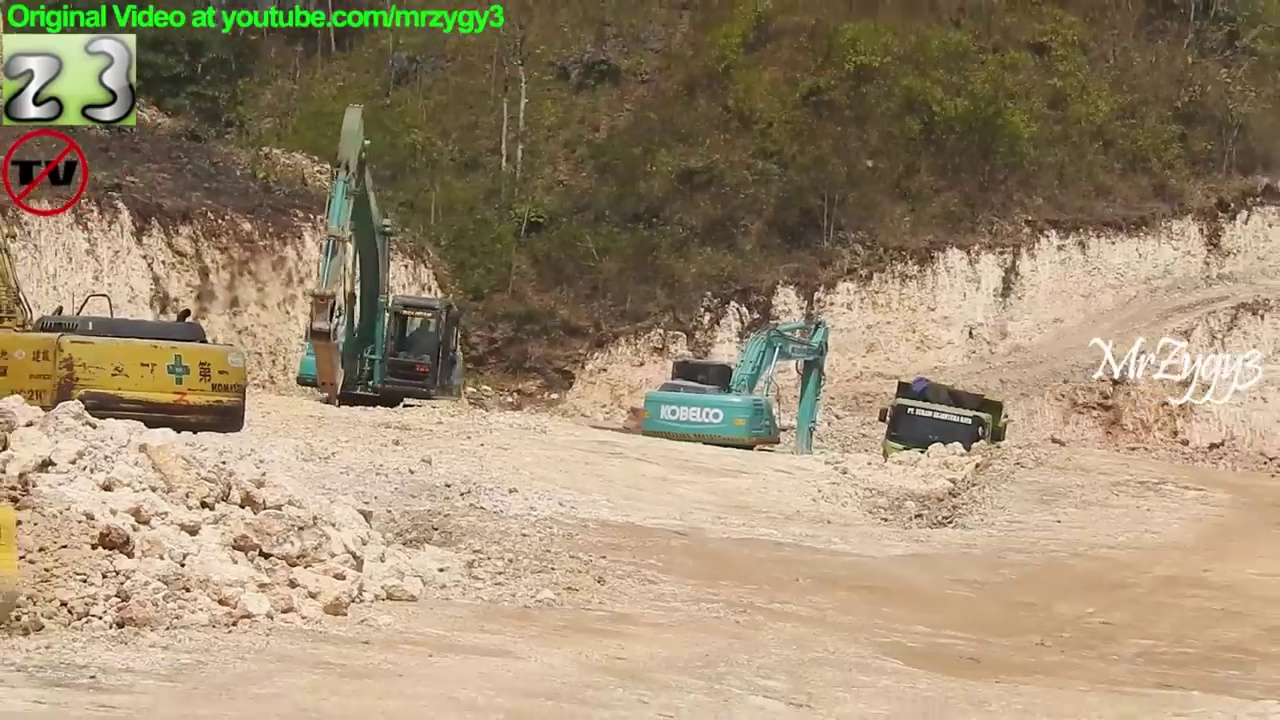excavator: (292, 96, 468, 443), (1, 203, 253, 443), (631, 314, 836, 481)
truck: (875, 374, 1015, 502)
